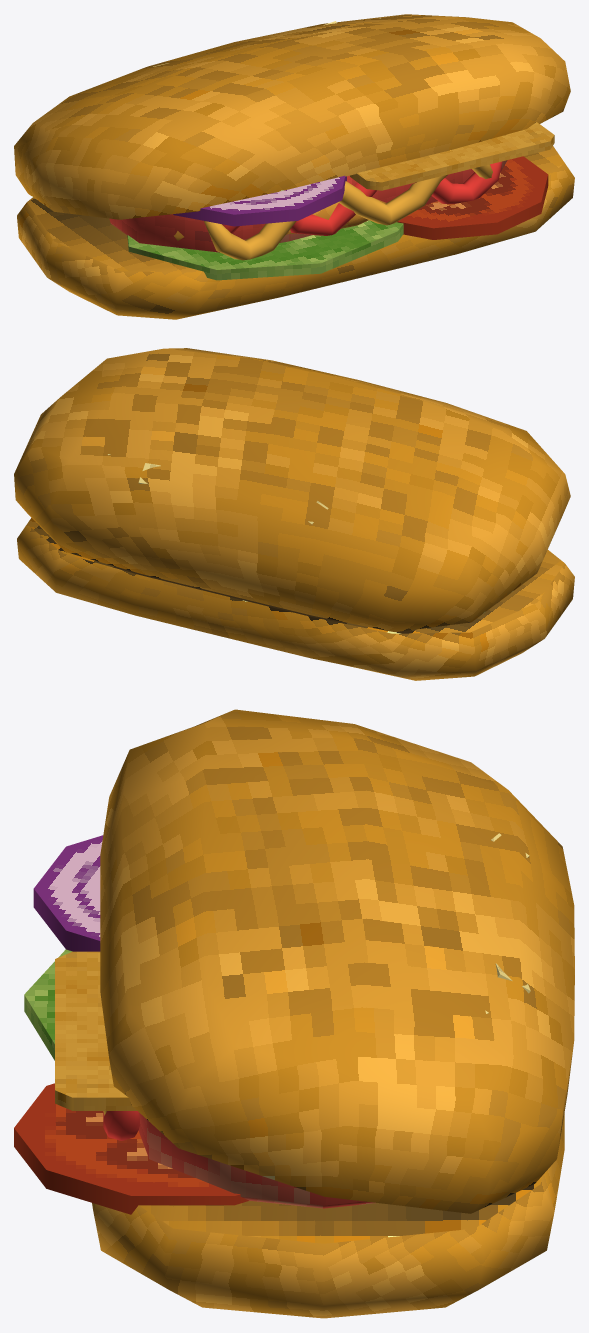
The model's file is Sandvich.fbx.
3 views of the same model, one above another, from view 1: azimuth 30°, elevation 25°; view 2: azimuth 150°, elevation 25°; view 3: azimuth 270°, elevation 25° (orthographic). The views are drawn at different scales.
Visible parts, largest first — view 1: Sandvich, Sandvich_Lettuce, Sandvich_Tomato, Sandvich_Cheddar, Mustard_Mesh, Sandvich_Onion, Sandvich_Beef_Meat, Ketchup_Mesh, Sandvich_Chicken_Meat; view 2: Sandvich; view 3: Sandvich, Sandvich_Tomato, Sandvich_Cheddar, Sandvich_Onion, Sandvich_Beef_Meat, Sandvich_Lettuce, Ketchup_Mesh.
Part boxes in pixels (left/top/right/bottom): Sandvich: left=14, top=14, right=574, bottom=319; Sandvich_Lettuce: left=127, top=220, right=403, bottom=280; Sandvich_Tomato: left=397, top=156, right=548, bottom=239; Sandvich_Cheddar: left=350, top=122, right=554, bottom=190; Mustard_Mesh: left=204, top=150, right=492, bottom=260; Sandvich_Onion: left=173, top=175, right=346, bottom=226; Sandvich_Beef_Meat: left=109, top=160, right=507, bottom=252; Ketchup_Mesh: left=211, top=161, right=502, bottom=240; Sandvich_Chicken_Meat: left=174, top=198, right=386, bottom=240; Sandvich: left=14, top=348, right=574, bottom=680; Sandvich: left=92, top=709, right=574, bottom=1318; Sandvich_Tomato: left=14, top=1083, right=248, bottom=1214; Sandvich_Cheddar: left=55, top=951, right=136, bottom=1110; Sandvich_Onion: left=33, top=835, right=103, bottom=951; Sandvich_Beef_Meat: left=138, top=1113, right=375, bottom=1208; Sandvich_Lettuce: left=24, top=949, right=72, bottom=1060; Ketchup_Mesh: left=103, top=1111, right=139, bottom=1140.
Bounding box in the file's own units: 0.3751 × 0.149 × 0.2289.
